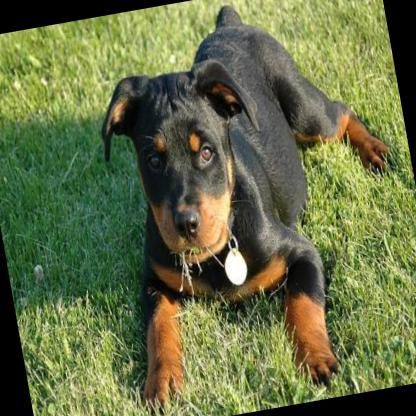Rottweiler: (74, 0, 416, 415)
